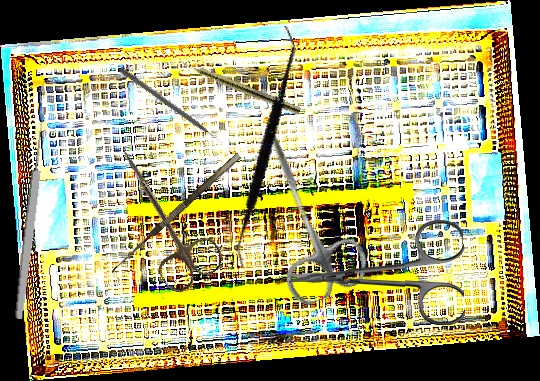Handpiece: (175, 56, 303, 116)
Hook Surgical: (108, 152, 248, 281)
Iris Scissors: (226, 109, 376, 310), (94, 136, 229, 298), (288, 219, 465, 328)
Pusher: (117, 66, 225, 147)
Spatula Surgical: (173, 25, 356, 269)
Surgical Spoon: (12, 106, 51, 320)
